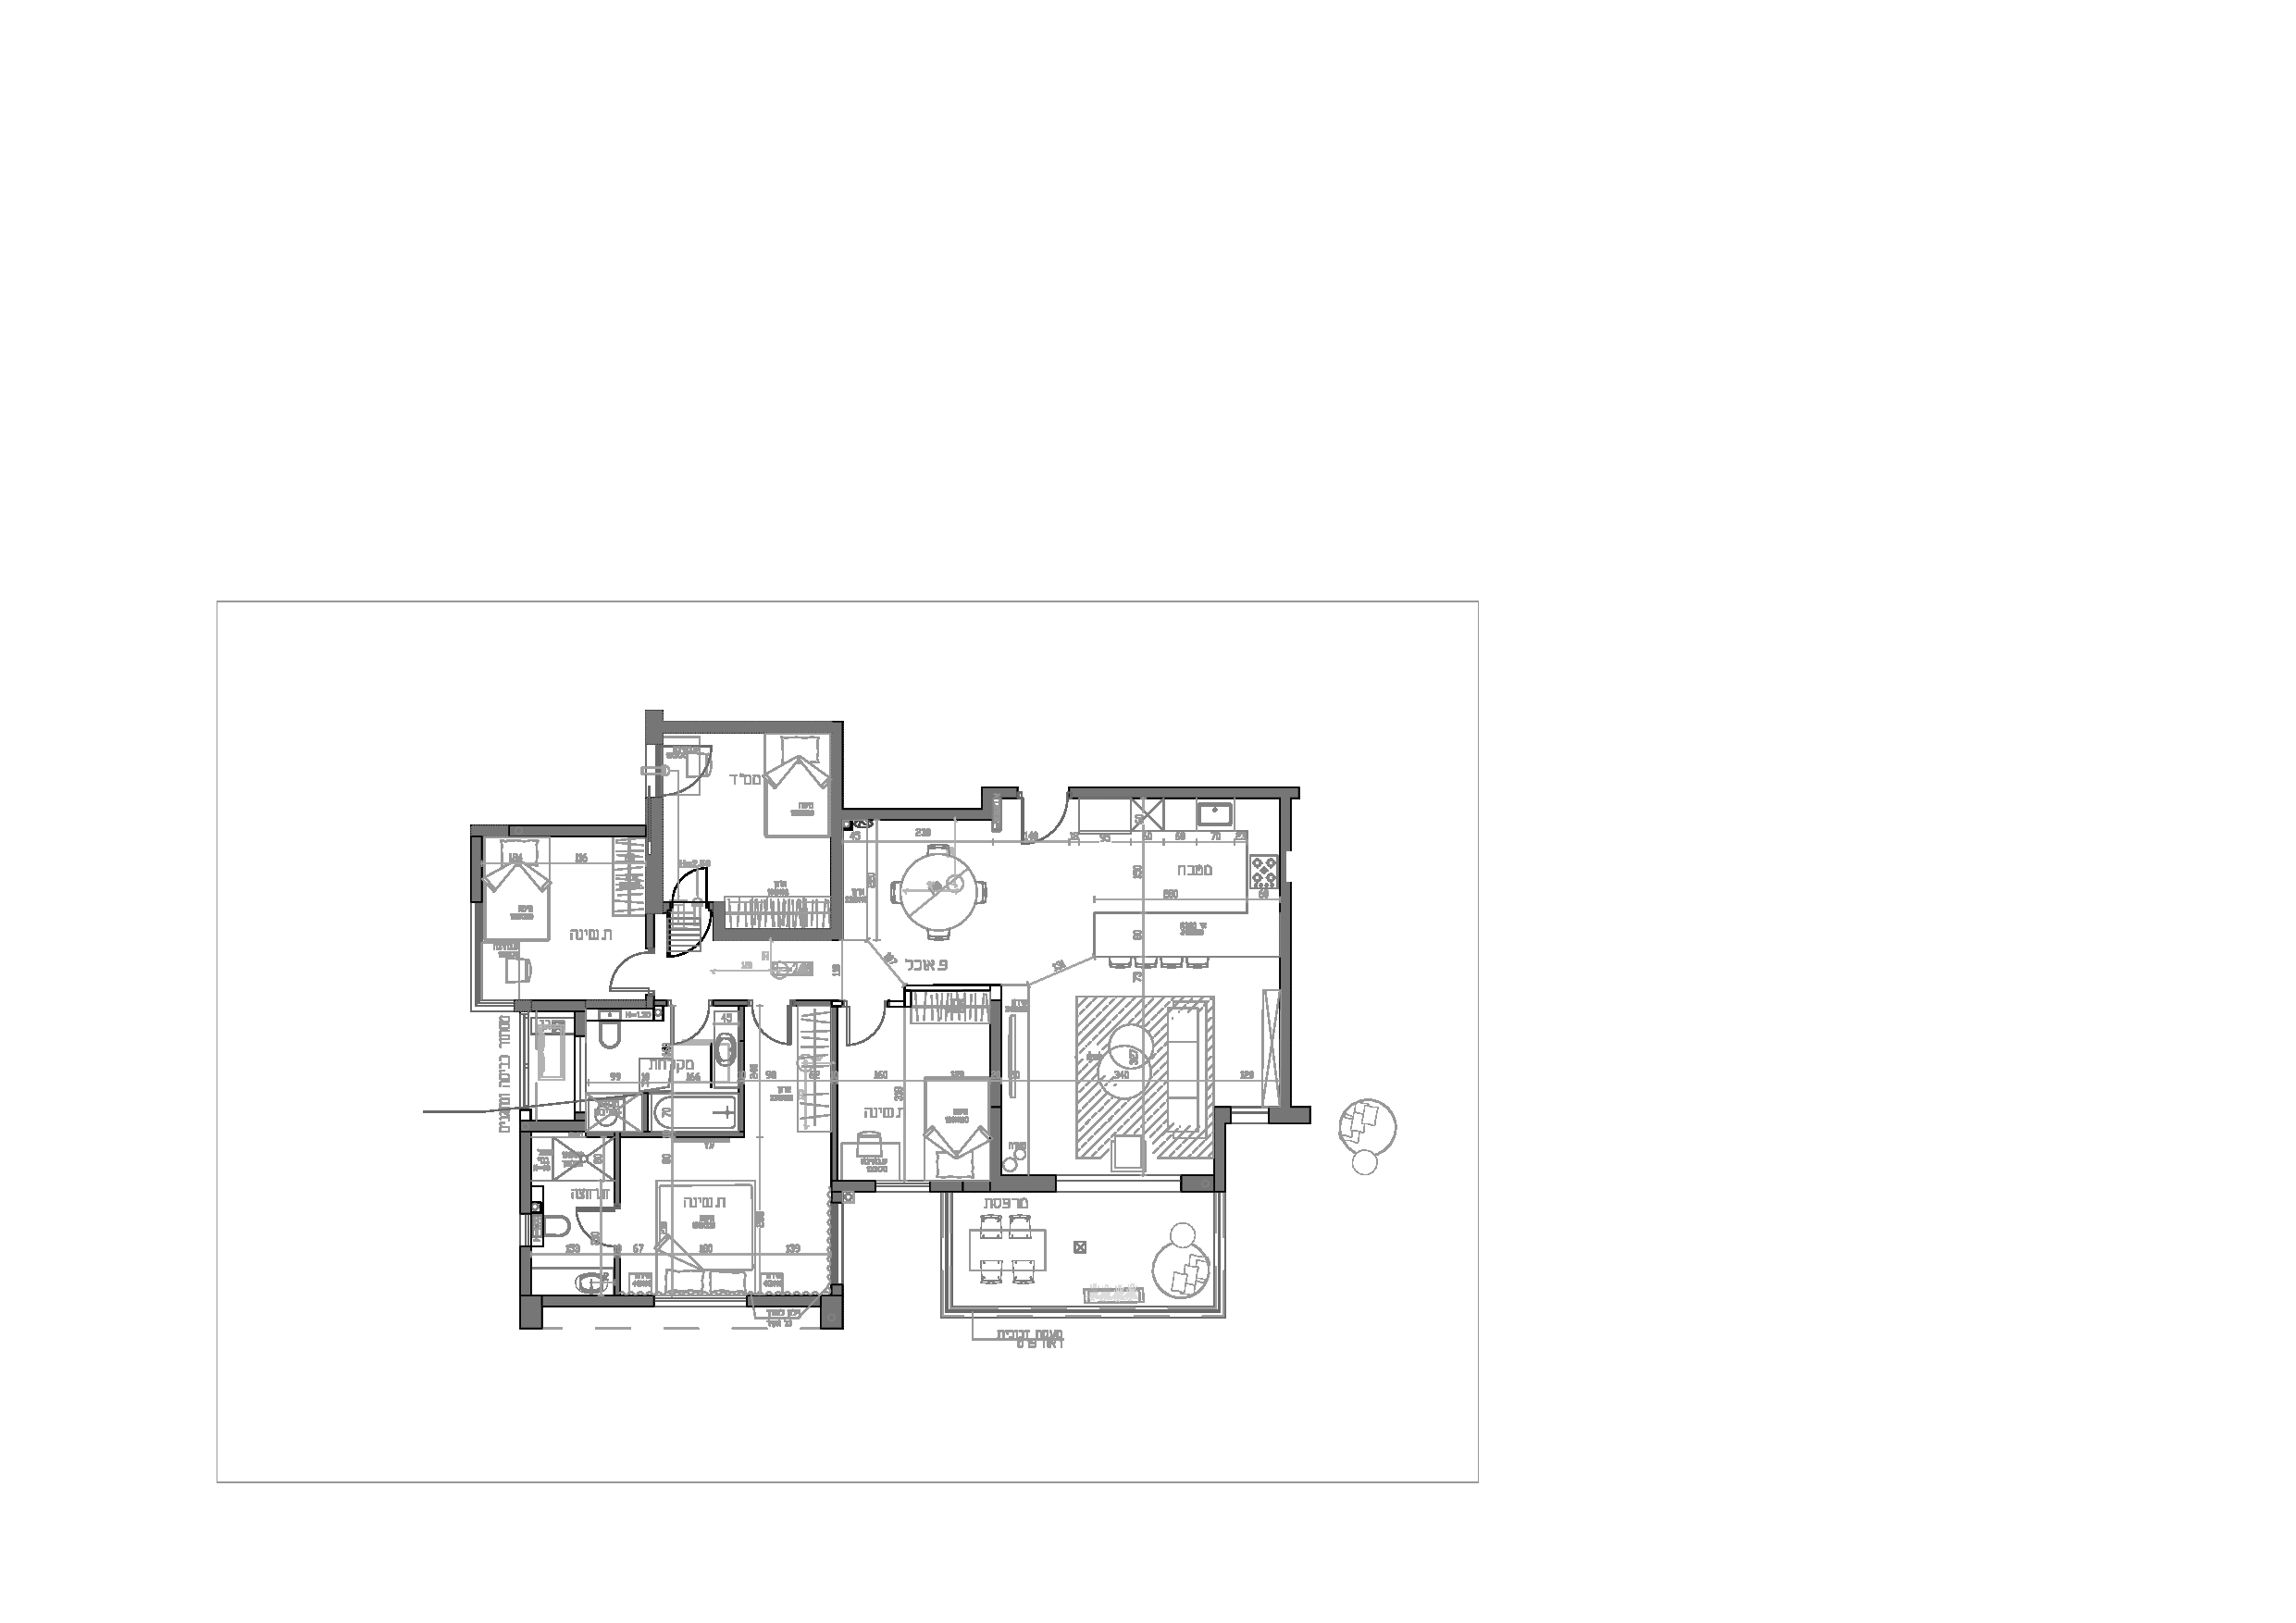door: (1014, 780, 1073, 852), (836, 996, 894, 1052), (743, 994, 801, 1049), (655, 998, 713, 1052), (603, 945, 661, 999)
wall: (827, 722, 843, 940), (989, 999, 1005, 1189), (1070, 787, 1302, 799), (473, 824, 646, 836)
window: (1049, 1170, 1184, 1194), (646, 1291, 757, 1317), (515, 1008, 538, 1119), (870, 1173, 936, 1198), (516, 1207, 539, 1258)
